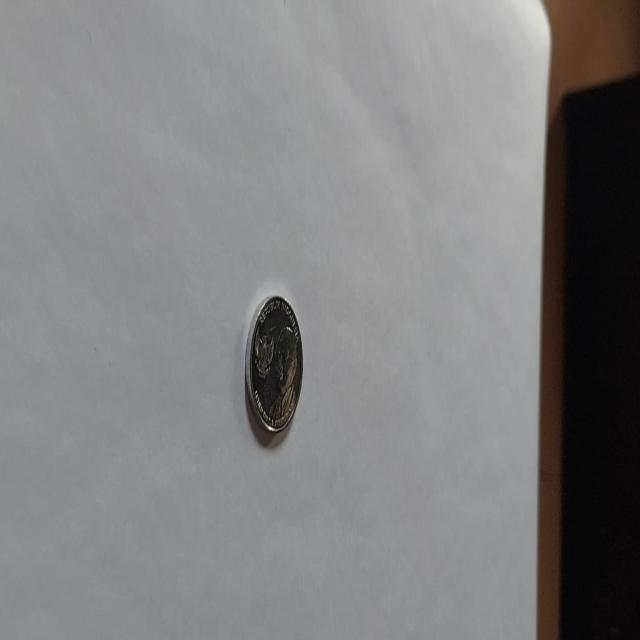lima ratus rupiah: (244, 292, 304, 438)
